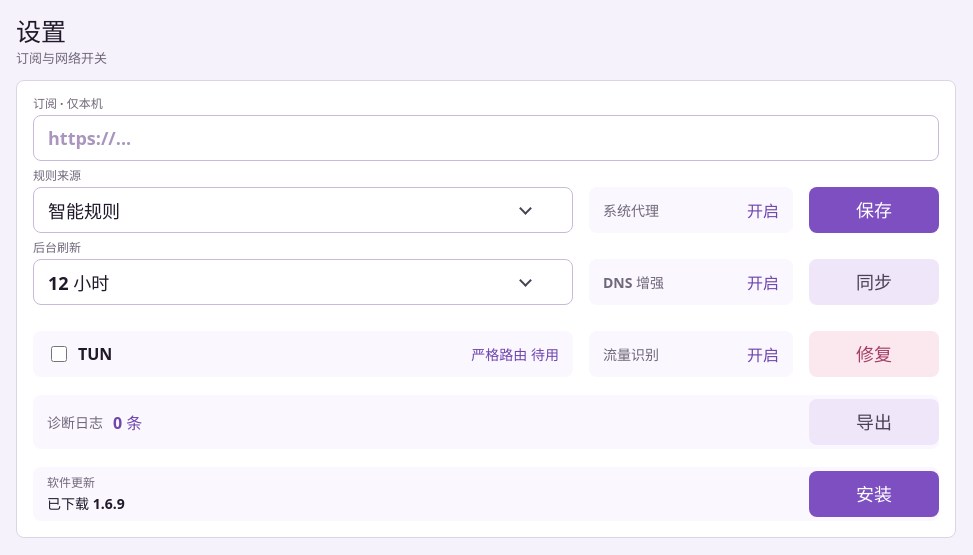
silent update installation notice › shows the install freshness check before settings reports a real installation
The width and height of the screenshot is (973, 555).
Step 1. Click the button "安装" → (874, 494), box x1=809 y1=471 x2=939 y2=517
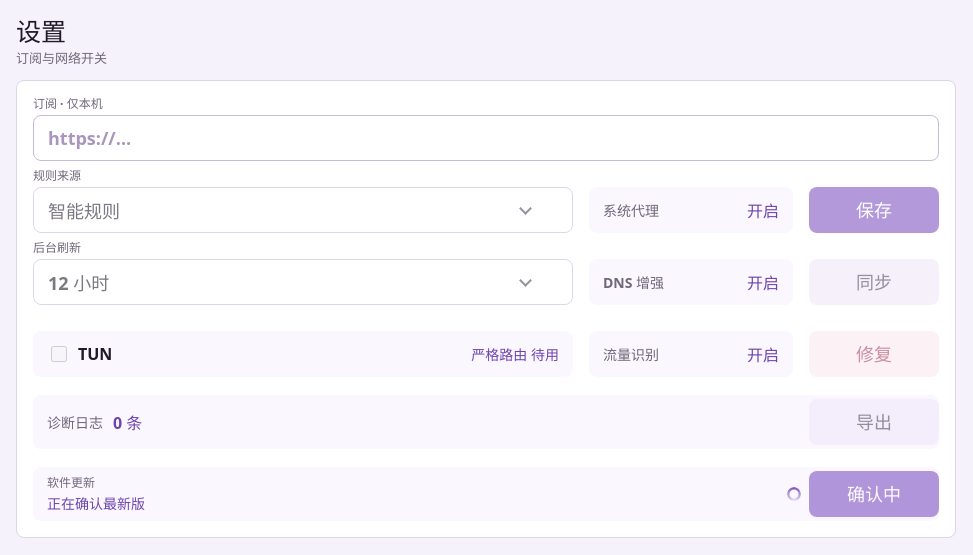
Result: the text "正在确认最新版" is shown at x1=47 y1=494 x2=145 y2=513
Result: the button "确认中" is disabled at x1=809 y1=471 x2=939 y2=517
